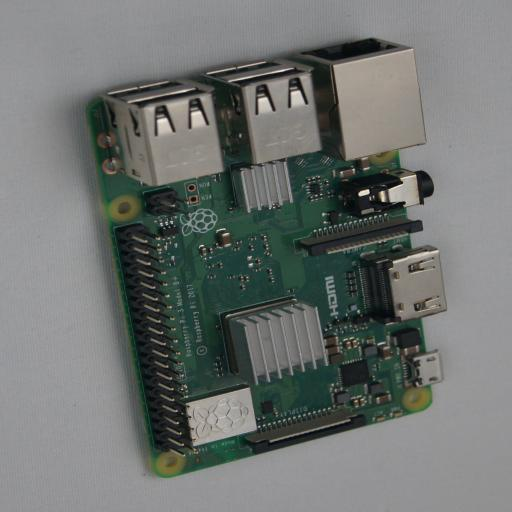Raspberry Pi 3 B-: (74, 37, 446, 478)
